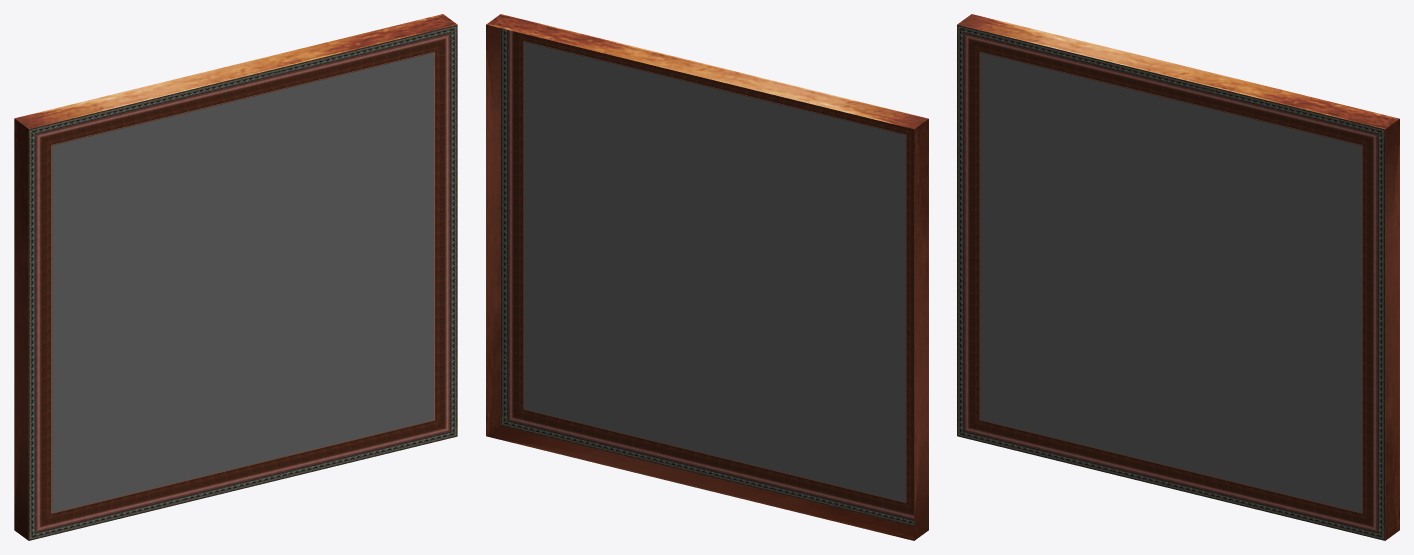
File: art_c.fbx
The picture shows the model from 3 angles, left to right: view 1: azimuth 30°, elevation 25°; view 2: azimuth 150°, elevation 25°; view 3: azimuth 330°, elevation 25°; orthographic projection.
Visible parts, largest first — view 1: art_a; view 2: art_a; view 3: art_a.
Boxes of the visible parts, x1,y1,x2,y2 form: art_a: [14, 14, 457, 540]; art_a: [486, 14, 928, 540]; art_a: [957, 14, 1399, 540].
Bounding box in the file's own units: 255 × 235 × 15.26.
